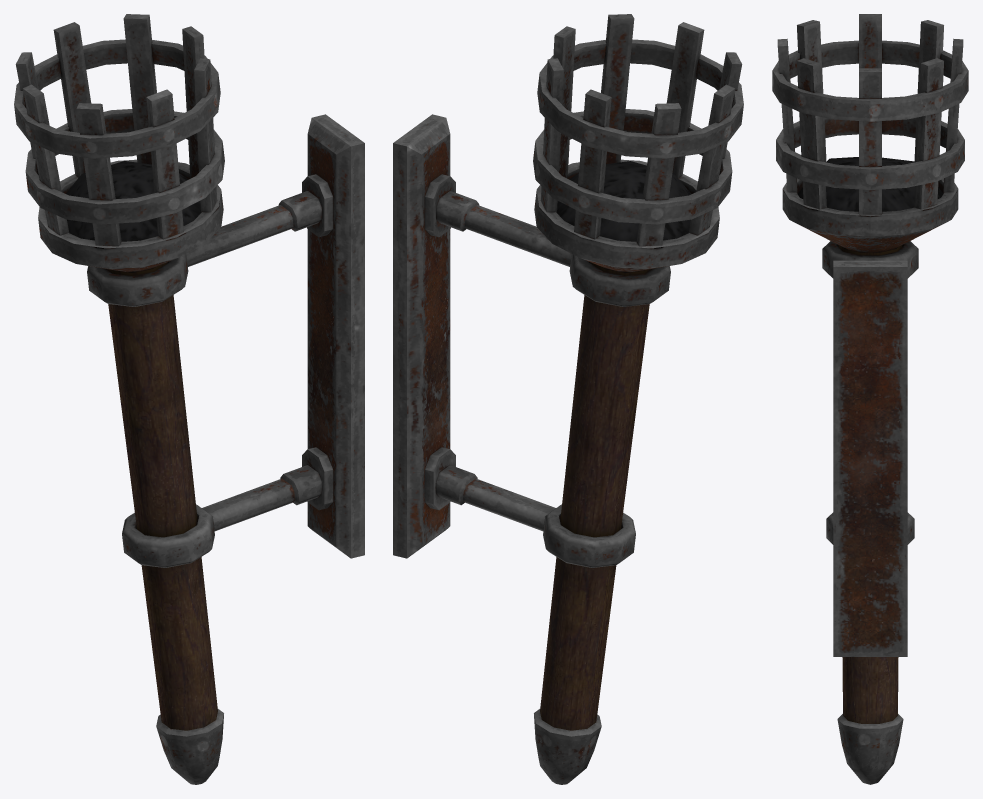
The model's file is SM_WallTorch.fbx.
The picture shows the model from 3 angles, left to right: view 1: azimuth 30°, elevation 25°; view 2: azimuth 150°, elevation 25°; view 3: azimuth 270°, elevation 25°; orthographic projection. The views are drawn at different scales.
Parts seen in each view (by area): view 1: SM_WallTorch_LOD0; view 2: SM_WallTorch_LOD0; view 3: SM_WallTorch_LOD0.
Boxes of the visible parts, x1,y1,x2,y2 form: SM_WallTorch_LOD0: [14, 14, 364, 784]; SM_WallTorch_LOD0: [393, 14, 743, 784]; SM_WallTorch_LOD0: [772, 14, 968, 784].
Bounding box in the file's own units: 30.86 × 17.41 × 69.82.
Materials: 2 (2 with a texture image).
